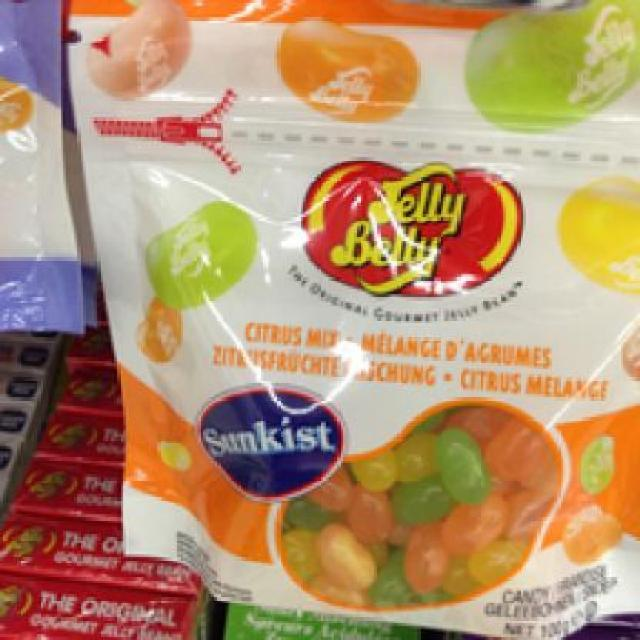Candy: (69, 2, 632, 628)
